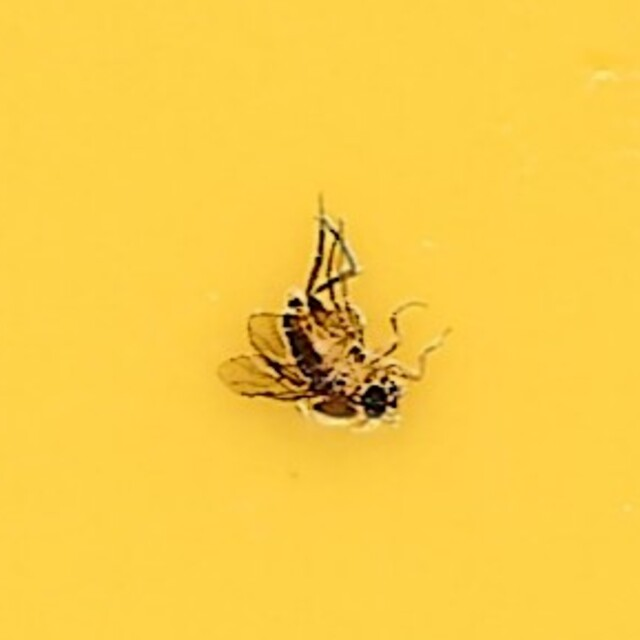Brachycera: (221, 207, 419, 433)
